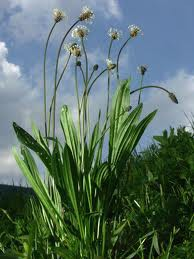buckhorn plantain: (25, 5, 176, 247)
